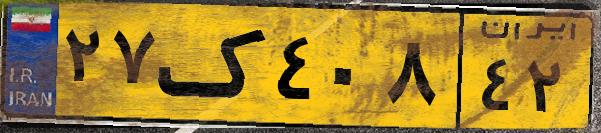0: (330, 28, 385, 110)
2: (57, 26, 110, 100), (525, 38, 570, 115)
4: (270, 28, 330, 110), (475, 38, 525, 113)
7: (110, 28, 158, 98)
8: (385, 28, 445, 110)
ک: (158, 12, 270, 120)
